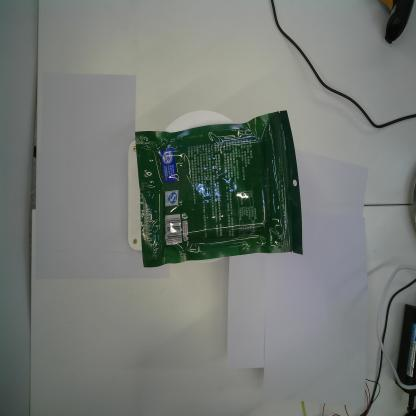Dried Food: (134, 109, 304, 268)
